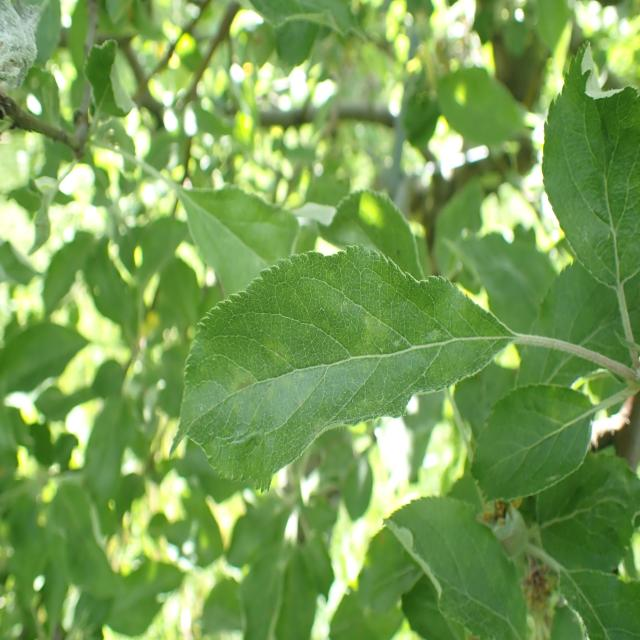scab: (178, 261, 482, 471)
